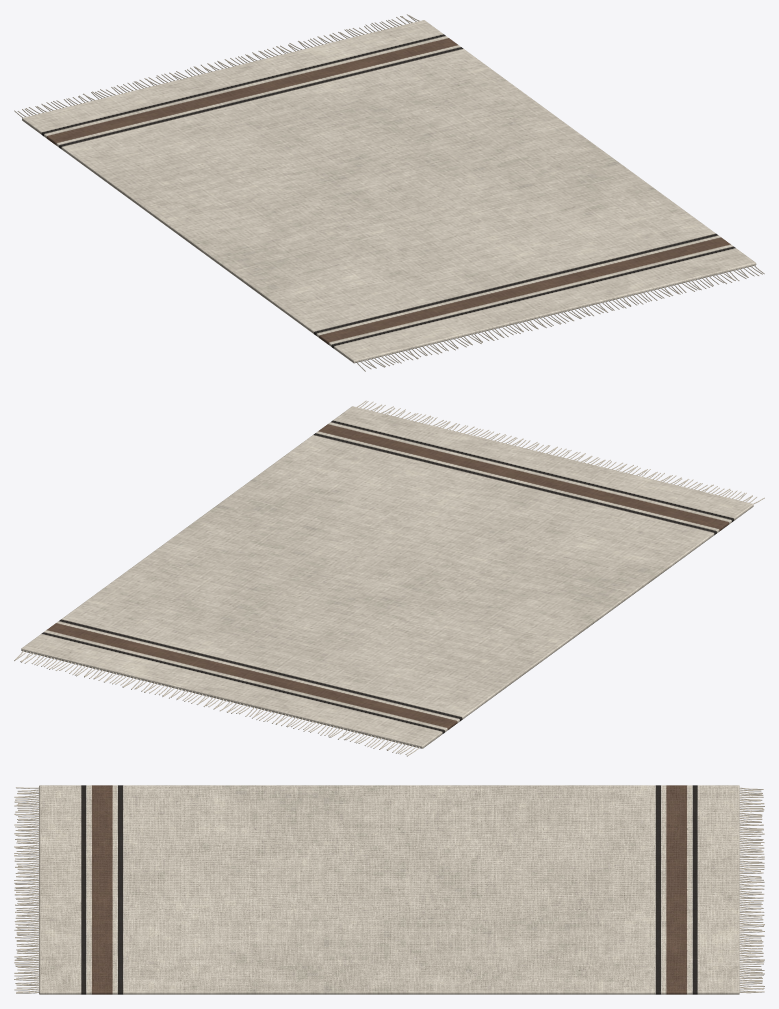
The model's file is alfombra_lana.glb.
The picture shows the model from 3 angles, top to bottom: view 1: azimuth 30°, elevation 25°; view 2: azimuth 150°, elevation 25°; view 3: azimuth 270°, elevation 25°; orthographic projection. The views are drawn at different scales.
Visible parts, largest first — view 1: AlfombraLana, Flecos; view 2: AlfombraLana, Flecos; view 3: AlfombraLana, Flecos.
Part boxes in pixels (box(x1,y1,x2,y2)): AlfombraLana: box(22, 20, 756, 363); Flecos: box(14, 14, 764, 371); AlfombraLana: box(21, 406, 753, 748); Flecos: box(14, 400, 764, 756); AlfombraLana: box(39, 785, 739, 994); Flecos: box(14, 787, 764, 993).
Bounding box in the file's own units: 1.4 × 0.01 × 2.14.
2 materials, 1 textured.
